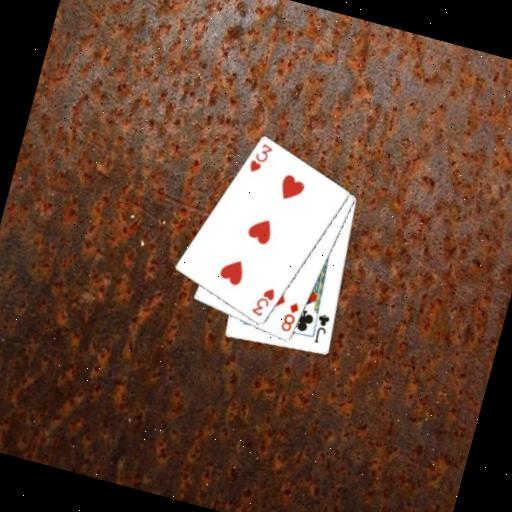3H: (244, 137, 275, 177), (248, 281, 279, 320)
8D: (277, 296, 302, 334)
JC: (309, 309, 332, 346)
